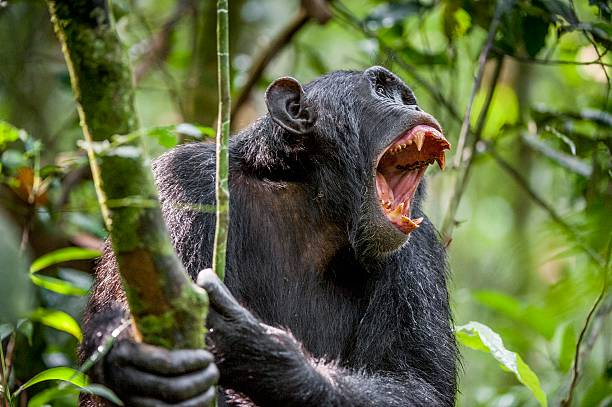chimpanzee: (260, 52, 455, 260)
